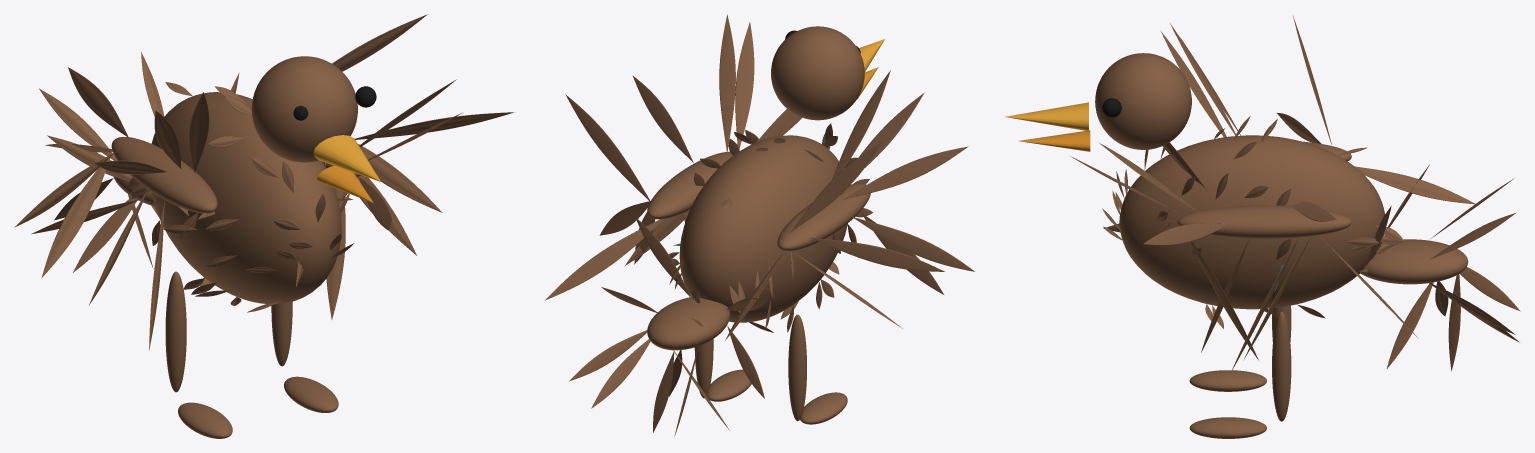
Rendered from legacy-diagnostic.glb.
The picture shows the model from 3 angles, left to right: view 1: azimuth 30°, elevation 25°; view 2: azimuth 150°, elevation 25°; view 3: azimuth 270°, elevation 25°; orthographic projection. The views are drawn at different scales.
Visible parts, largest first — view 1: body, head, wing_left, leg_left, left_primary/000006, beak_upper, foot_left, foot_right, right_primary/000004, right_primary/000000, left_primary/000007, right_primary/000005 (+17 smaller); view 2: body, head, tail, wing_left, wing_right, leg_left, right_primary/000009, left_primary/000010, right_primary/000001, left_primary/000008, left_primary/000003, right_primary/000006 (+18 smaller); view 3: body, head, wing_right, tail, leg_right, left_primary/000009, foot_right, foot_left, beak_upper, right_primary/000000, tail_feathers/000009, beak_lower (+10 smaller).
Boxes of the visible parts, x1,y1,x2,y2 form: body: [151, 92, 341, 304]; head: [251, 56, 357, 162]; wing_left: [111, 137, 217, 213]; leg_left: [165, 271, 186, 392]; left_primary/000006: [41, 150, 112, 278]; beak_upper: [313, 135, 380, 181]; foot_left: [178, 402, 232, 438]; foot_right: [284, 376, 338, 412]; right_primary/000004: [358, 144, 442, 212]; right_primary/000000: [355, 112, 513, 139]; left_primary/000007: [68, 67, 128, 137]; right_primary/000005: [332, 14, 427, 71]; body: [679, 135, 847, 322]; head: [771, 26, 864, 120]; tail: [647, 297, 730, 350]; wing_left: [777, 183, 870, 250]; wing_right: [647, 151, 732, 219]; leg_left: [788, 314, 806, 421]; right_primary/000009: [545, 218, 664, 300]; left_primary/000010: [810, 237, 944, 271]; right_primary/000001: [719, 14, 735, 153]; left_primary/000008: [842, 146, 968, 199]; left_primary/000003: [852, 216, 974, 271]; right_primary/000006: [735, 22, 754, 148]; body: [1119, 135, 1385, 309]; head: [1095, 53, 1191, 149]; wing_right: [1177, 205, 1351, 238]; tail: [1360, 239, 1468, 284]; leg_right: [1272, 311, 1291, 421]; left_primary/000009: [1355, 166, 1475, 204]; foot_right: [1189, 417, 1266, 438]; foot_left: [1189, 370, 1266, 391]; beak_upper: [1005, 102, 1088, 131]; right_primary/000000: [1143, 223, 1231, 245]; tail_feathers/000009: [1386, 282, 1433, 368]; beak_lower: [1018, 130, 1090, 151].
Size of the model in its own units: 0.1858 by 0.1615 by 0.2132.
